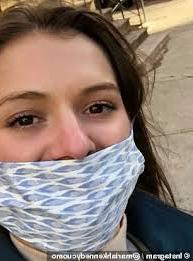mask_weared_incorrect: (0, 72, 133, 247)
